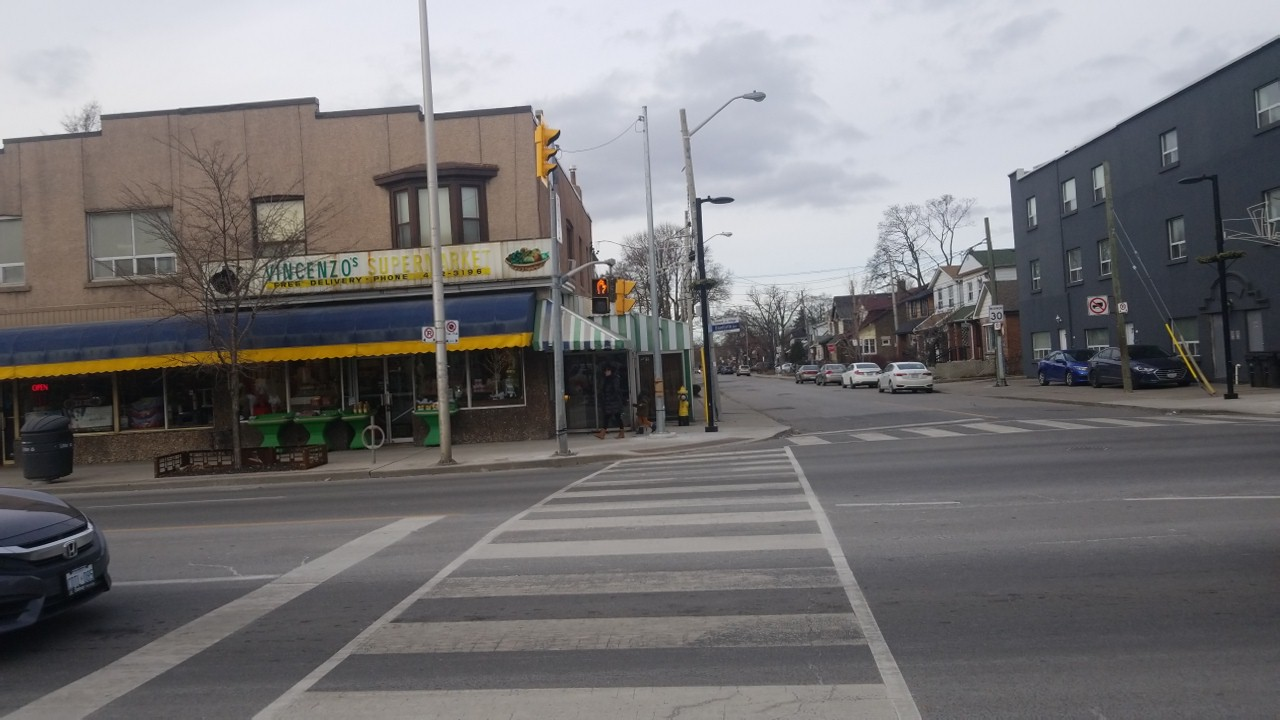light: (590, 276, 609, 315)
